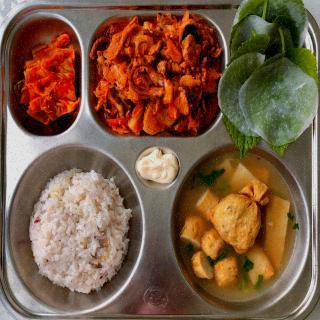Nasi: (31, 171, 133, 294)
